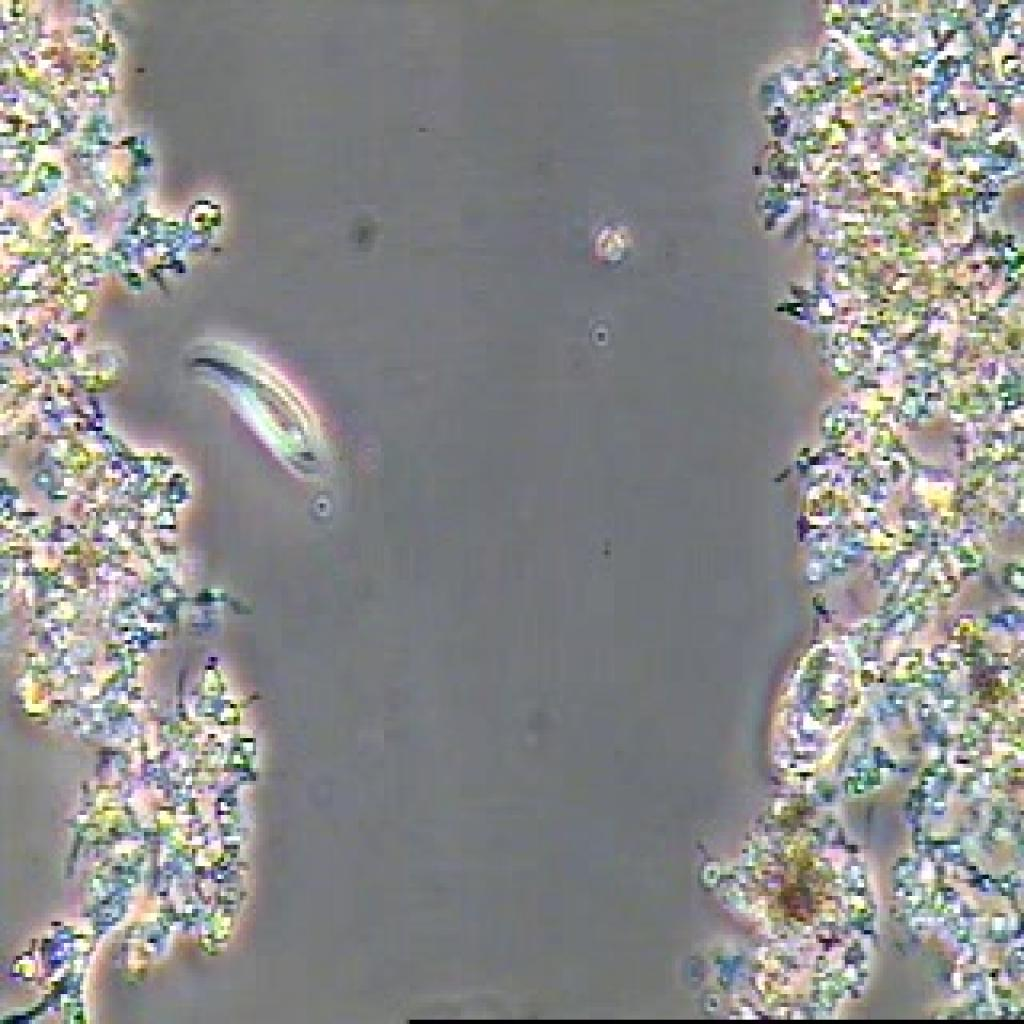Pristina: (170, 324, 364, 504)
